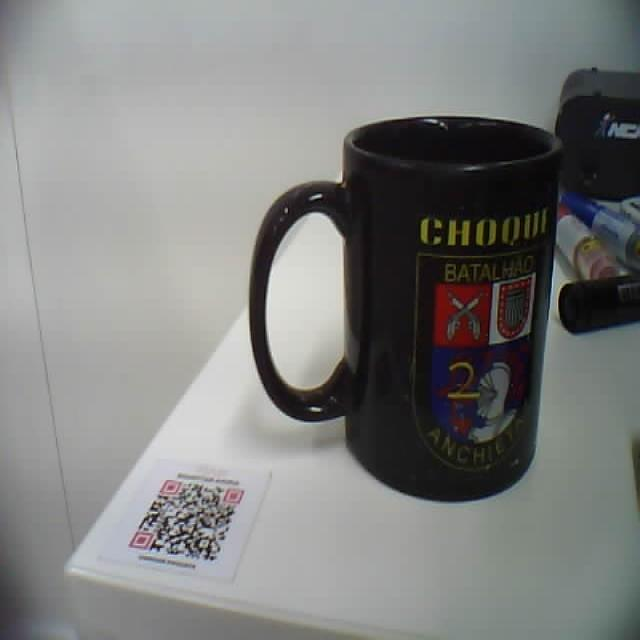caneca: (250, 117, 561, 500)
